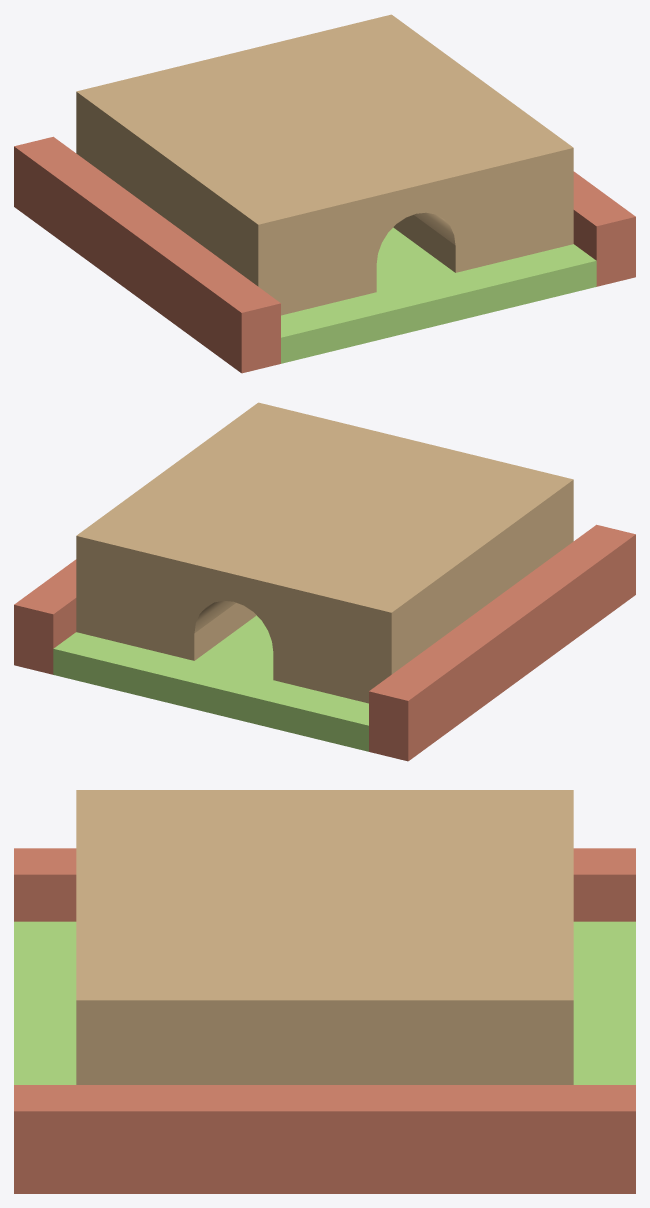
The model's file is Tunnel_narrow_01.glb.
3 views of the same model, one above another, from view 1: azimuth 30°, elevation 25°; view 2: azimuth 150°, elevation 25°; view 3: azimuth 270°, elevation 25° (orthographic). The views are drawn at different scales.
Visible parts, largest first — view 1: Mesh1 Tunnel_narrow Model; view 2: Mesh1 Tunnel_narrow Model; view 3: Mesh1 Tunnel_narrow Model.
Part boxes in pixels (x1,y1,x2,y2): Mesh1 Tunnel_narrow Model: [14, 14, 635, 373]; Mesh1 Tunnel_narrow Model: [14, 402, 635, 761]; Mesh1 Tunnel_narrow Model: [14, 790, 635, 1193].
Size of the model in its own units: 3 by 0.89 by 3.
